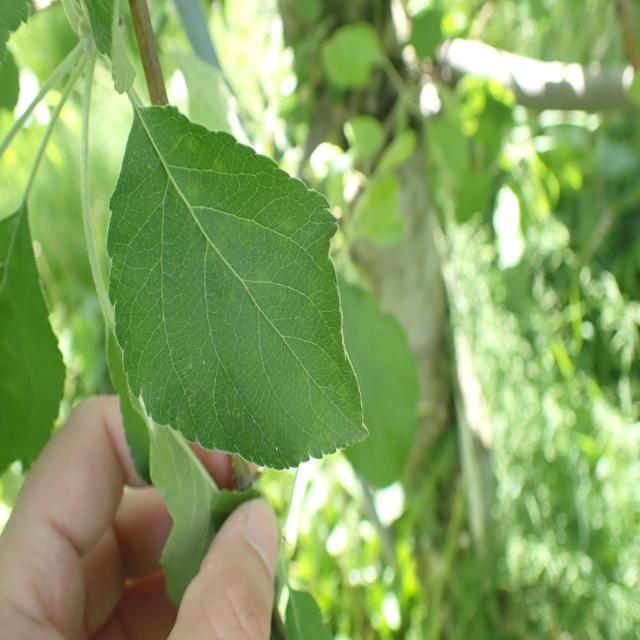scab: (145, 108, 347, 478)
